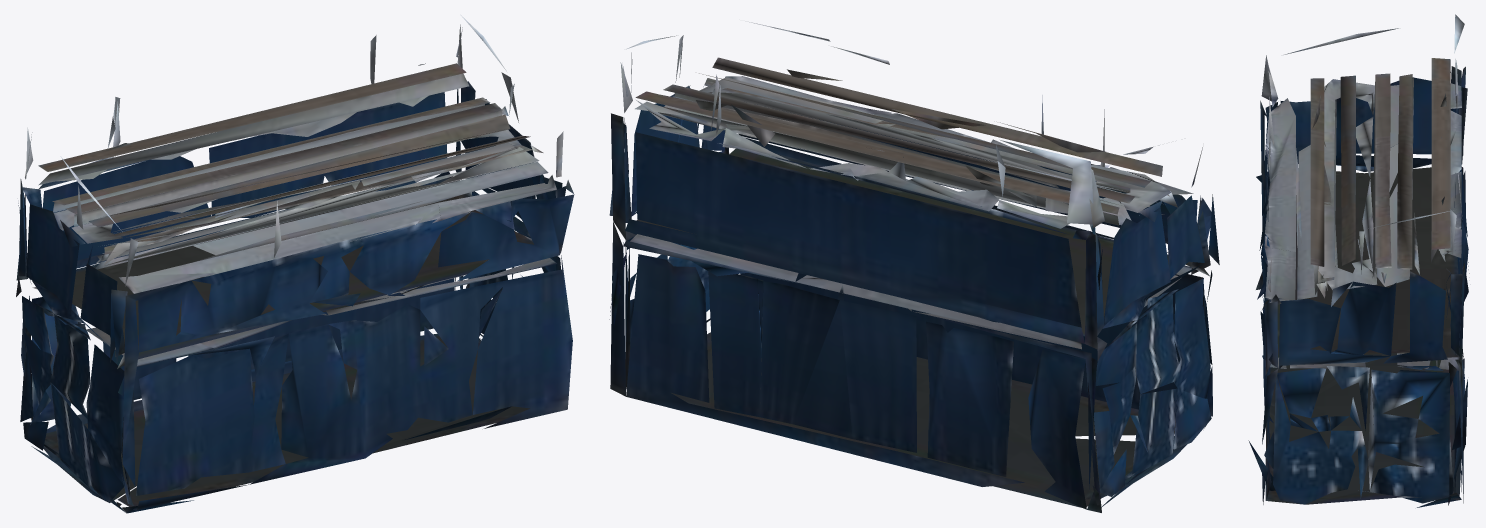
Rendered from drift_zuschauer_container_lo.glb.
3 views of the same model, side by side, from view 1: azimuth 30°, elevation 25°; view 2: azimuth 150°, elevation 25°; view 3: azimuth 270°, elevation 25° (orthographic). The views are drawn at different scales.
Parts seen in each view (by area): view 1: Prop; view 2: Prop; view 3: Prop.
Part boxes in pixels (box(x1,y1,x2,y2)): Prop: box(16, 15, 574, 513); Prop: box(609, 21, 1219, 512); Prop: box(1248, 14, 1469, 507).
Size of the model in its own units: 1.54 by 1.01 by 0.6747.
Materials: 1 (1 with a texture image).
